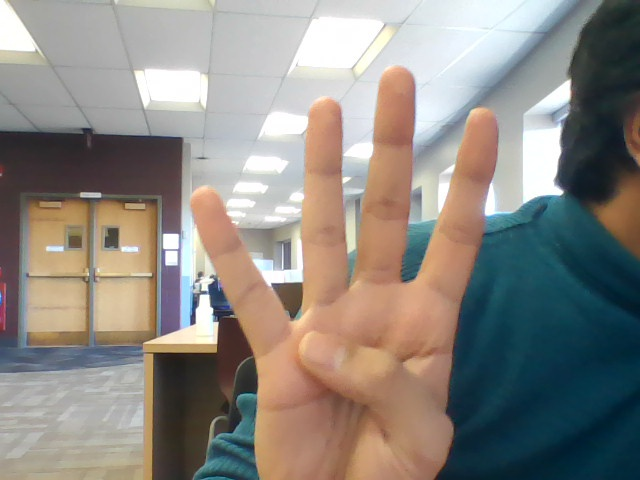four: (184, 62, 499, 480)
